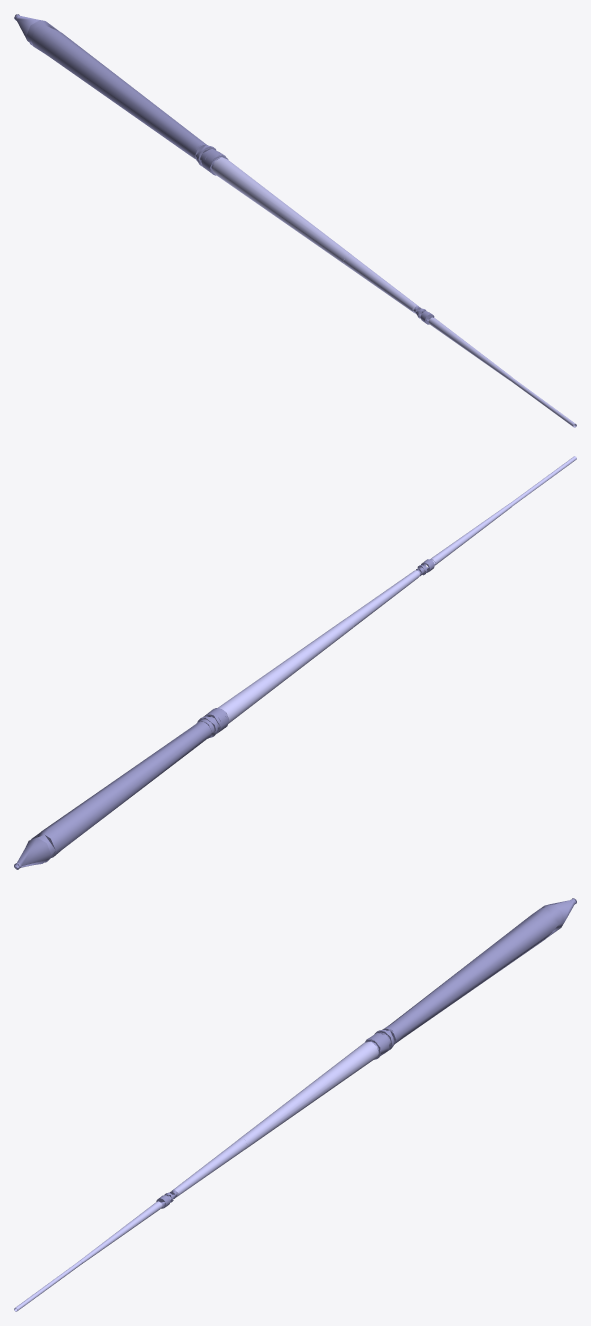
File: g2_pipeb.glb
3 renders of one model, top to bottom at view 1: azimuth 30°, elevation 25°; view 2: azimuth 150°, elevation 25°; view 3: azimuth 330°, elevation 25°, orthographic.
Parts seen in each view (by area): view 1: Mesh_0; view 2: Mesh_0; view 3: Mesh_0.
Boxes of the visible parts, x1,y1,x2,y2 form: Mesh_0: (14, 14, 576, 427); Mesh_0: (14, 456, 576, 869); Mesh_0: (14, 898, 576, 1311).
Size of the model in its own units: 45.84 by 45.51 by 1792.
